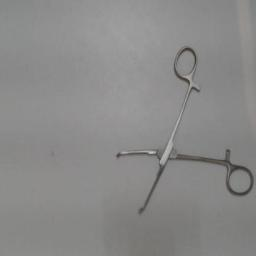Allis Tissue Forceps: (110, 38, 256, 224)
